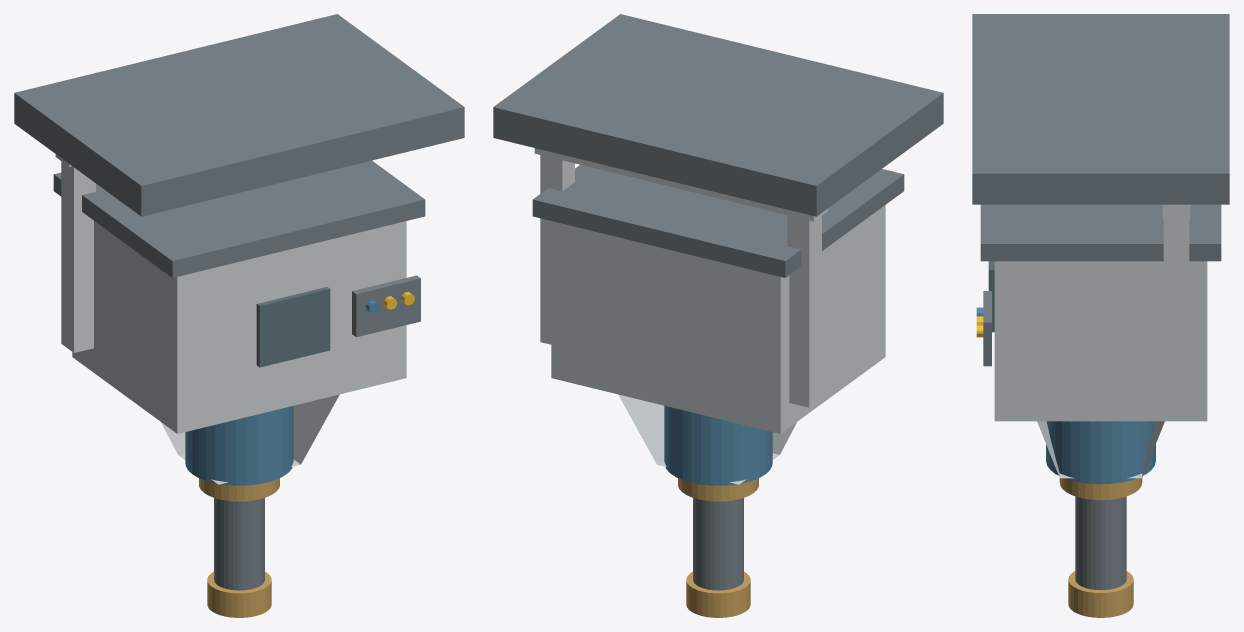
The model's file is CheeseDispenser.glb.
The picture shows the model from 3 angles, left to right: view 1: azimuth 30°, elevation 25°; view 2: azimuth 150°, elevation 25°; view 3: azimuth 270°, elevation 25°; orthographic projection.
Visible parts, largest first — view 1: mounting_plate, hopper_body, hopper_lid, dosing_motor, suspension_column_-0.42, inspection_window, dispense_nozzle, status_panel, hopper_taper, nozzle_tip, motor_collar; view 2: mounting_plate, hopper_body, hopper_lid, dosing_motor, suspension_column_-0.42, dispense_nozzle, suspension_column_0.42, hopper_taper, nozzle_tip, suspension_crossbar, motor_collar; view 3: mounting_plate, hopper_body, hopper_lid, dosing_motor, suspension_column_0.42, dispense_nozzle, nozzle_tip, motor_collar, hopper_taper, status_panel, suspension_crossbar.
Part boxes in pixels (box(x1,y1,x2,y2)): mounting_plate: box(14, 14, 464, 216); hopper_body: box(72, 221, 406, 433); hopper_lid: box(53, 160, 425, 277); dosing_motor: box(185, 405, 293, 485); suspension_column_-0.42: box(61, 161, 95, 352); inspection_window: box(256, 287, 330, 367); dispense_nozzle: box(214, 498, 264, 590); status_panel: box(352, 275, 420, 337); hopper_taper: box(161, 394, 339, 484); nozzle_tip: box(207, 571, 271, 617); motor_collar: box(199, 478, 279, 501); mounting_plate: box(493, 14, 943, 216); hopper_body: box(551, 205, 885, 433); hopper_lid: box(532, 164, 904, 277); dosing_motor: box(664, 405, 772, 485); suspension_column_-0.42: box(787, 215, 821, 407); dispense_nozzle: box(693, 498, 743, 590); suspension_column_0.42: box(540, 155, 574, 344); hopper_taper: box(618, 394, 796, 484); nozzle_tip: box(686, 571, 750, 617); suspension_crossbar: box(534, 148, 827, 221); motor_collar: box(678, 478, 758, 501); mounting_plate: box(972, 14, 1229, 204); hopper_body: box(994, 261, 1207, 421); hopper_lid: box(980, 204, 1221, 261); dosing_motor: box(1046, 421, 1155, 484); suspension_column_0.42: box(1163, 218, 1189, 405); dispense_nozzle: box(1075, 496, 1126, 590); nozzle_tip: box(1068, 571, 1133, 617); motor_collar: box(1059, 478, 1142, 500); hopper_taper: box(1037, 421, 1164, 478); status_panel: box(983, 291, 991, 366); suspension_crossbar: box(1162, 204, 1190, 218).
Bounding box in the file's own units: 1.1 × 1.64 × 0.75.
